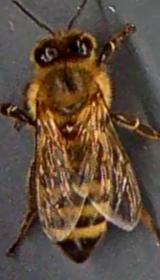varroa_mite: (54, 120, 86, 140)
